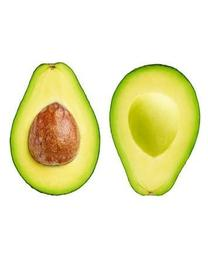avocado: (9, 61, 100, 196), (109, 64, 201, 196)
